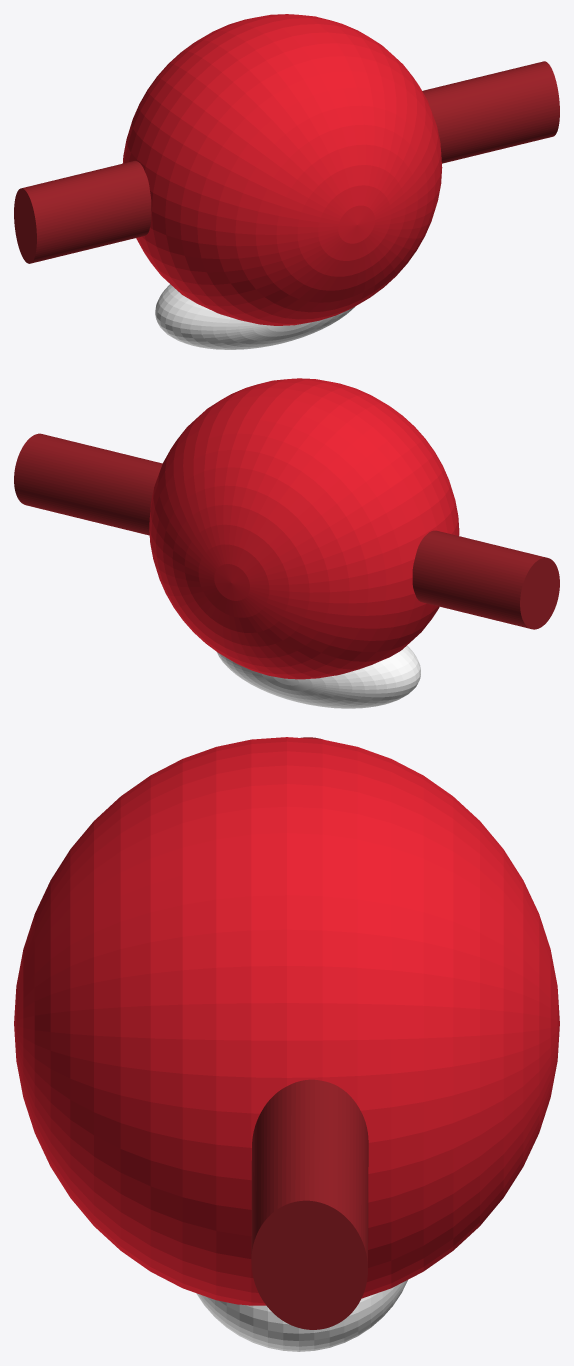
The model's file is tinker.obj.
The picture shows the model from 3 angles, top to bottom: view 1: azimuth 30°, elevation 25°; view 2: azimuth 150°, elevation 25°; view 3: azimuth 270°, elevation 25°; orthographic projection. The views are drawn at different scales.
Visible parts, largest first — view 1: obj_1, obj_0, obj_2; view 2: obj_1, obj_0, obj_2; view 3: obj_1, obj_0, obj_2.
Boxes of the visible parts, x1,y1,x2,y2 form: obj_1: (122,14,442,325); obj_0: (14,61,559,263); obj_2: (155,284,355,349); obj_1: (149,378,459,679); obj_0: (14,433,559,629); obj_2: (217,645,420,708); obj_1: (14,737,559,1305); obj_0: (251,737,368,1329); obj_2: (196,1280,407,1351).
Size of the model in its own units: 47 by 26 by 23.
